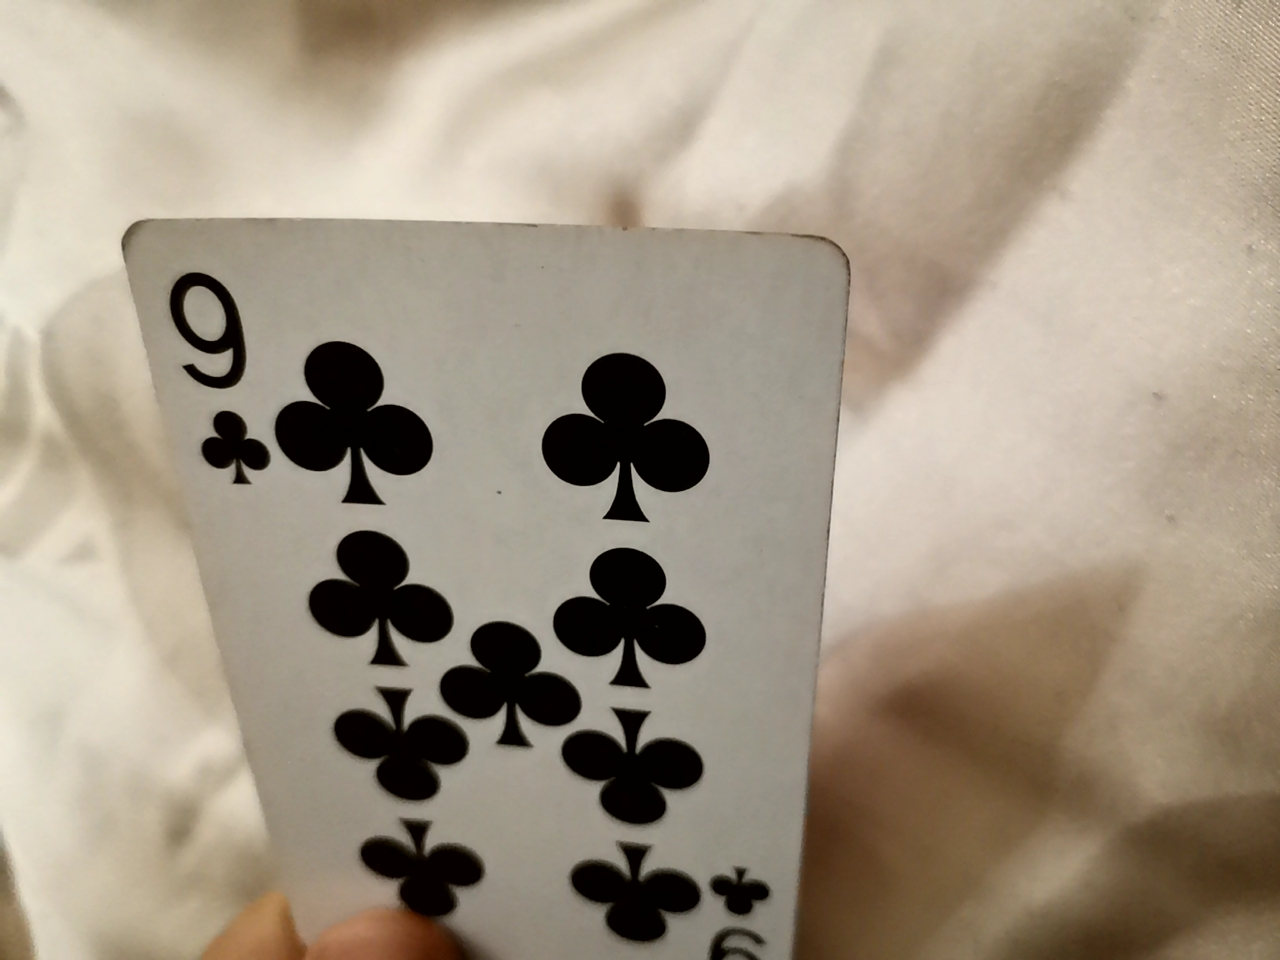mh 9: (109, 218, 829, 959)
